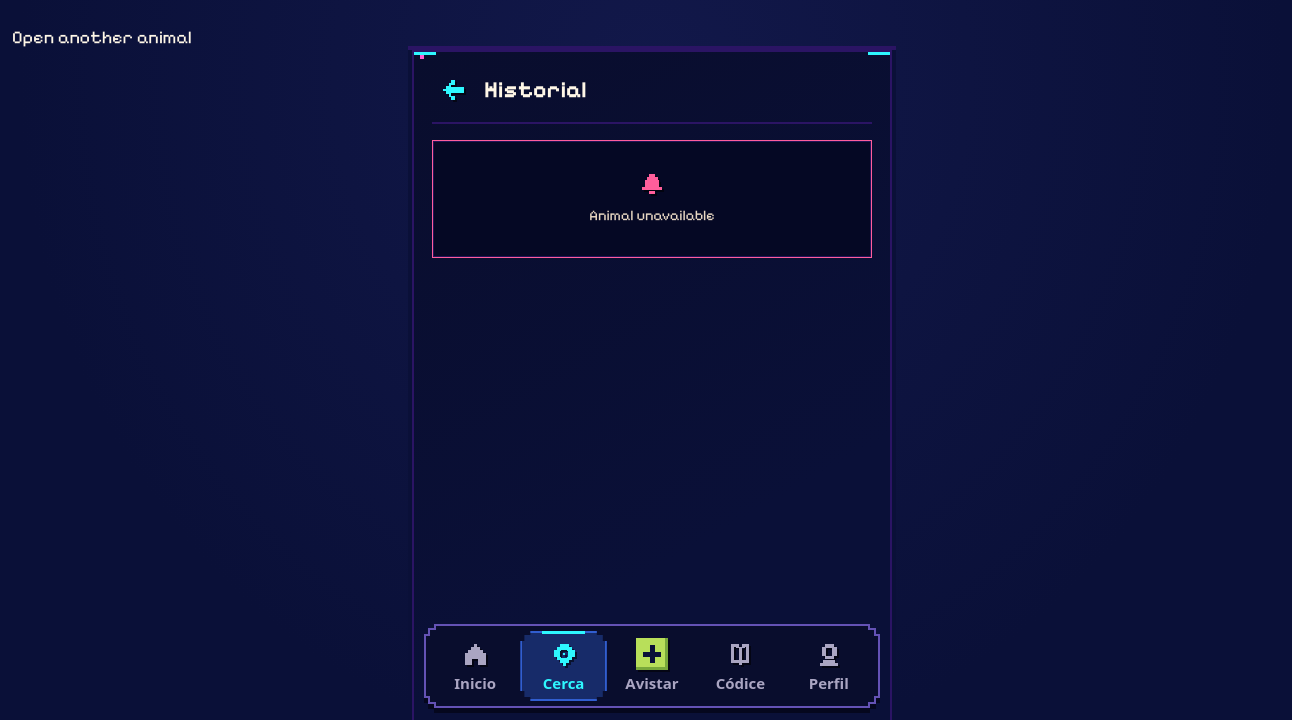
animal history recovery › clears an earlier load error when another animal loads successfully
Expected: the text "Animal unavailable" is shown, [589,207,715,225]
Click the link "Open another animal".
click(102, 37)  # box [12,26,192,48]
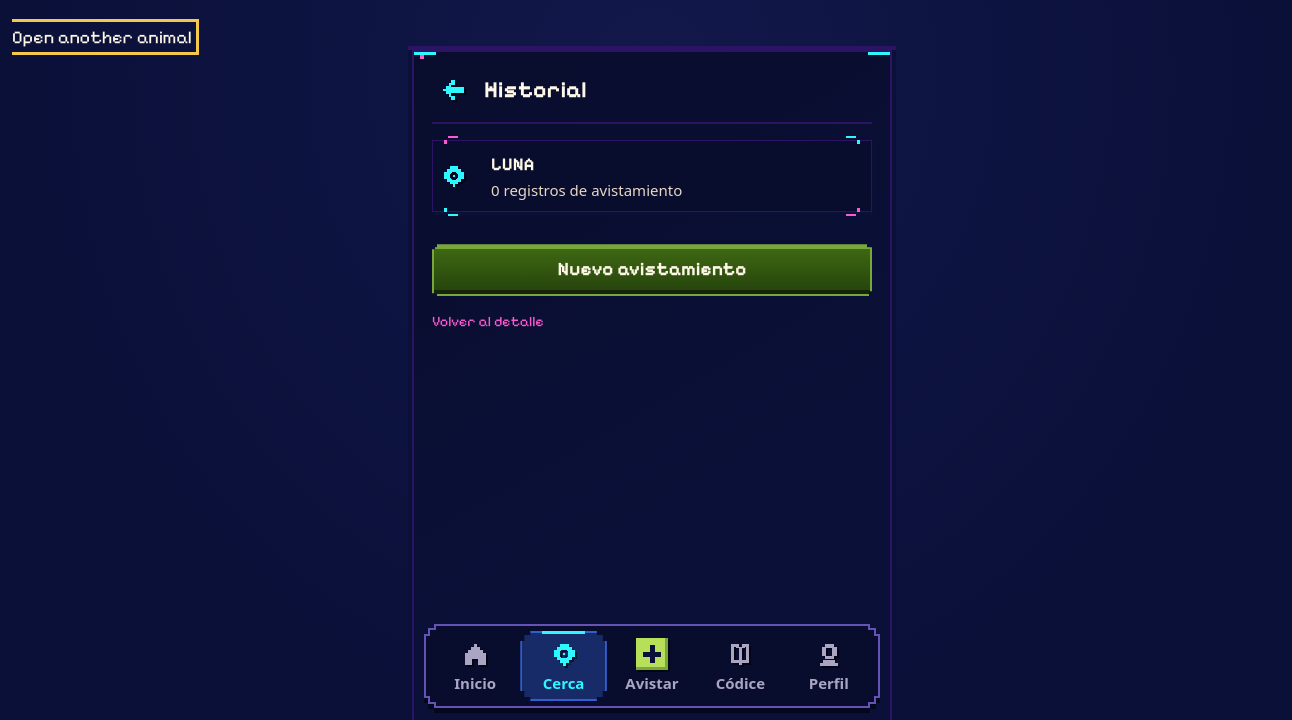
Now the text "Luna" is shown, box [491,153,534,175]
Now the text "Animal unavailable" is gone
